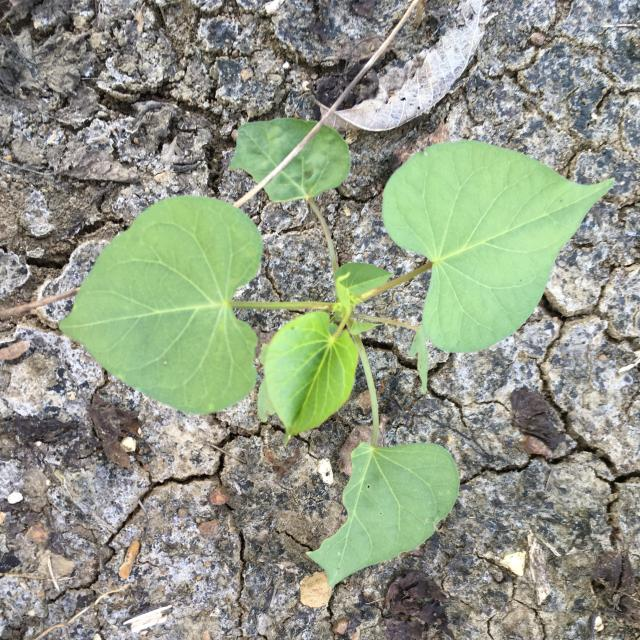MorningGlory: (58, 117, 616, 589)
